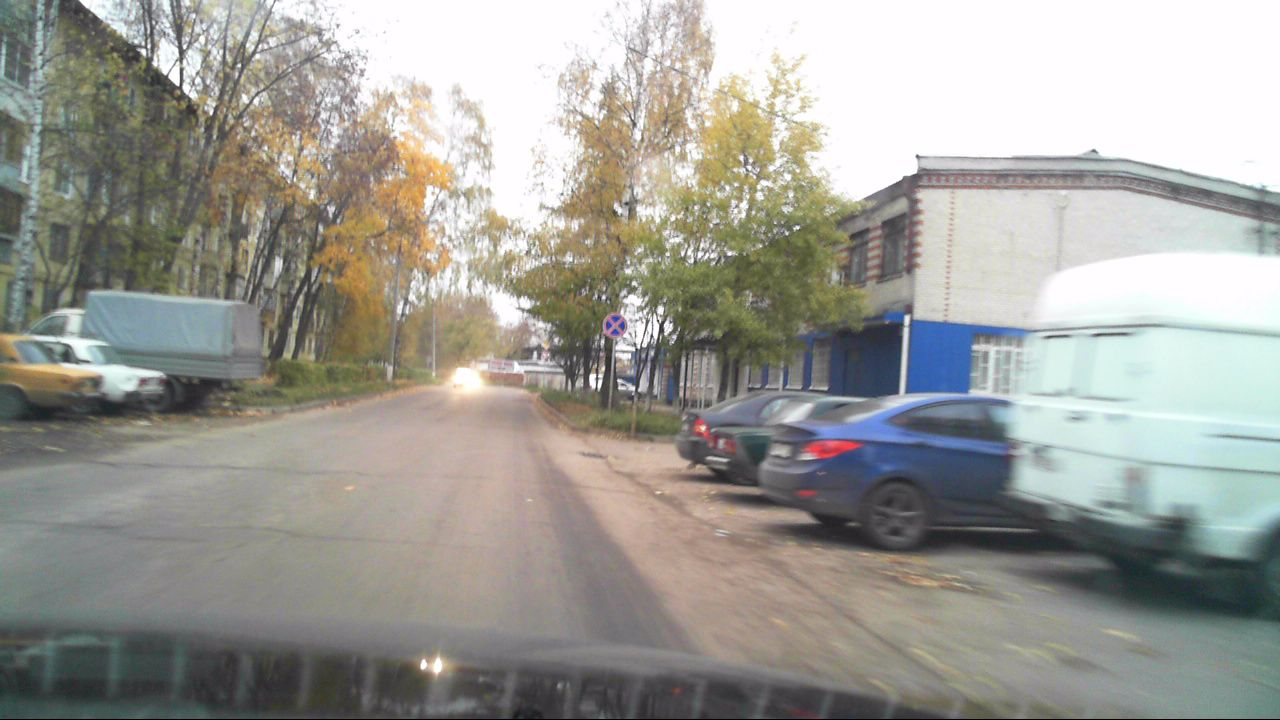No Parking: (603, 313, 627, 338)
